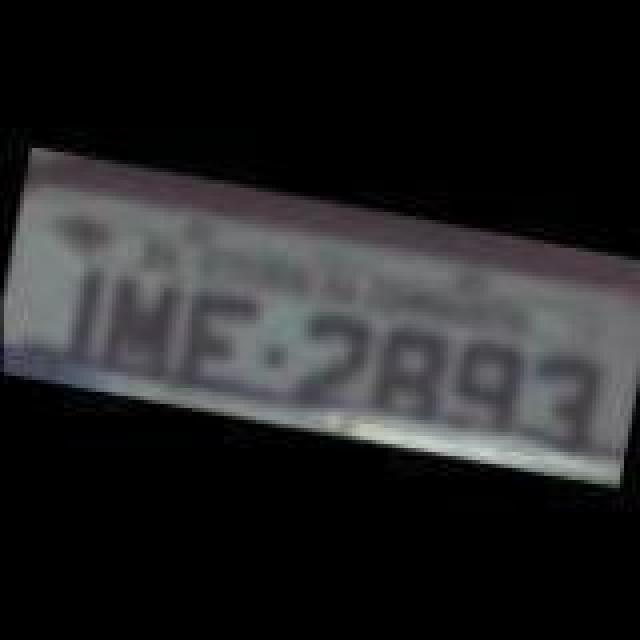2: (286, 300, 374, 416)
3: (516, 336, 608, 456)
8: (358, 314, 446, 434)
9: (438, 330, 526, 450)
E: (176, 274, 260, 394)
J: (22, 248, 110, 368)
M: (92, 258, 184, 382)
